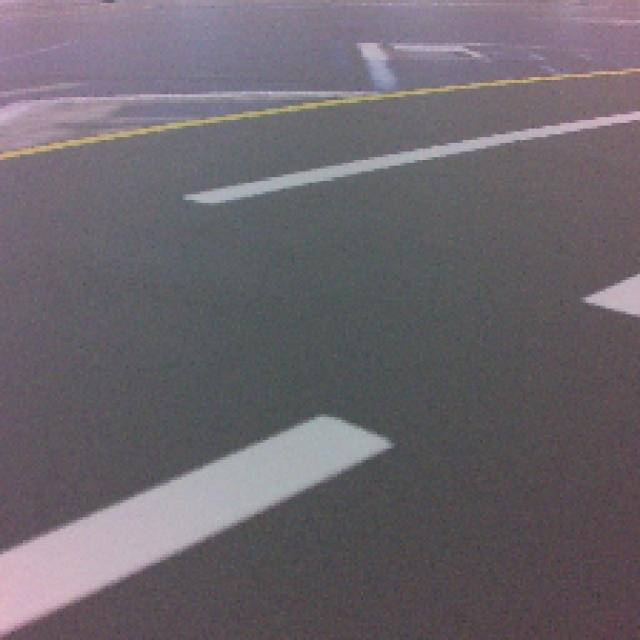Guard rail: (0, 415, 394, 634)
